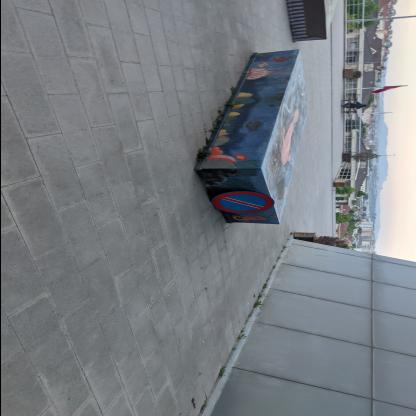No Waiting: (212, 193, 275, 215)
